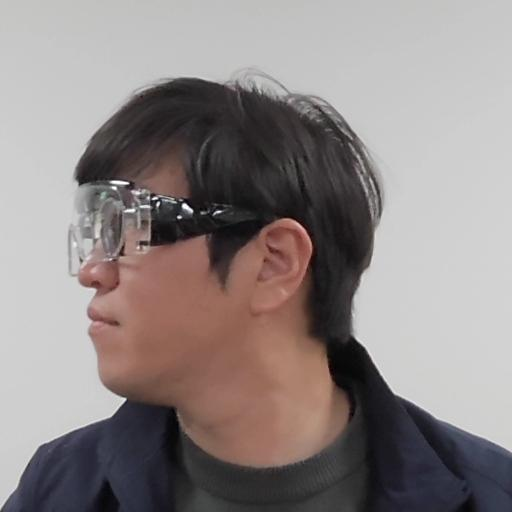glasses: (46, 70, 390, 402)
